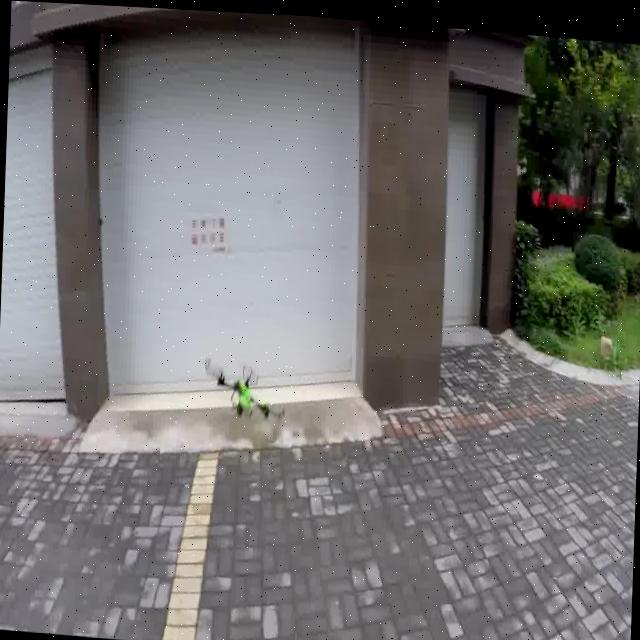drone: (188, 315, 304, 476)
